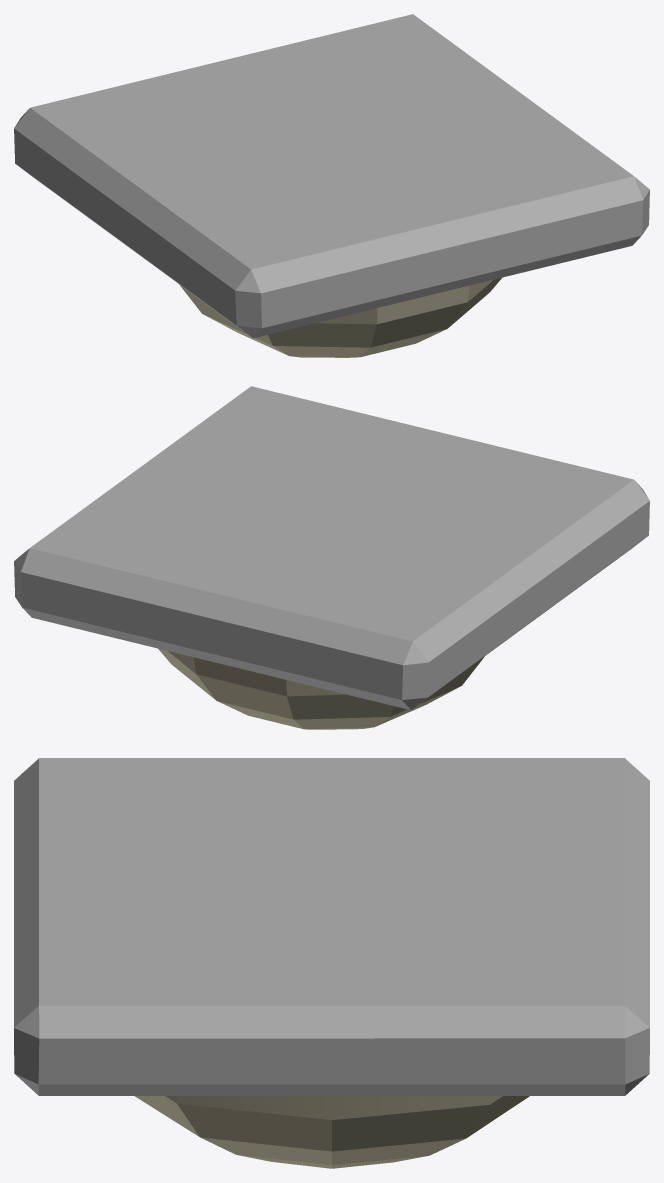
Rendered from instabile stondata.fbx.
3 views of the same model, one above another, from view 1: azimuth 30°, elevation 25°; view 2: azimuth 150°, elevation 25°; view 3: azimuth 270°, elevation 25° (orthographic). The views are drawn at different scales.
Parts seen in each view (by area): view 1: pCube3; view 2: pCube3; view 3: pCube3.
Boxes of the visible parts, <box> form: pCube3: <box>14,14,649,357</box>; pCube3: <box>14,386,649,729</box>; pCube3: <box>14,758,649,1168</box>.
Size of the model in its own units: 4.01 by 1.77 by 4.02.
